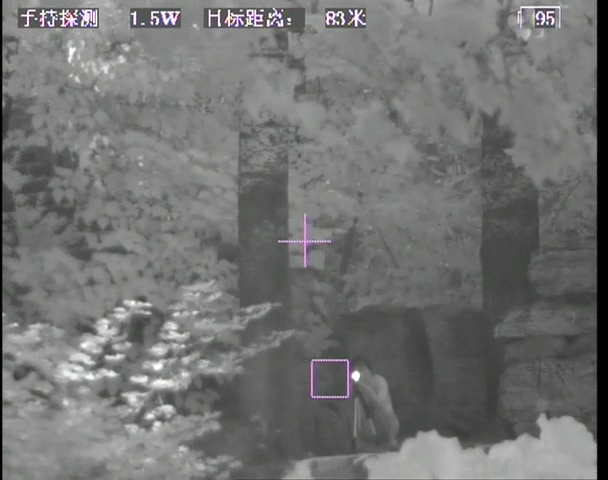my: (348, 369, 362, 386)
